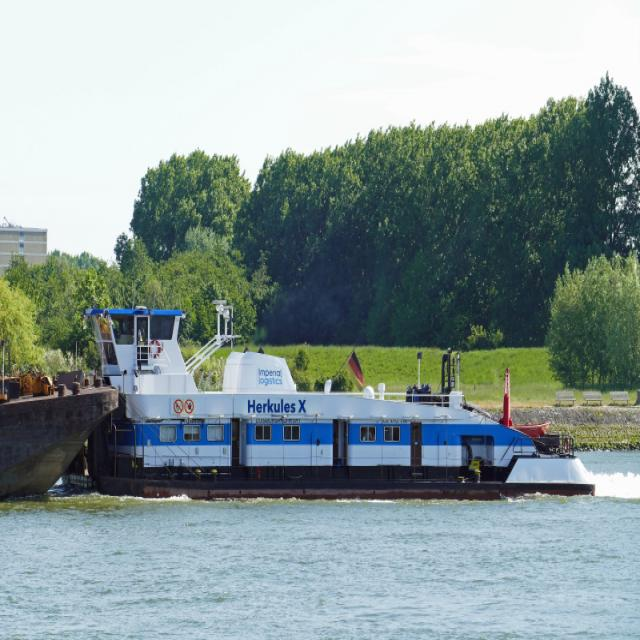tugboat: (59, 299, 600, 514)
